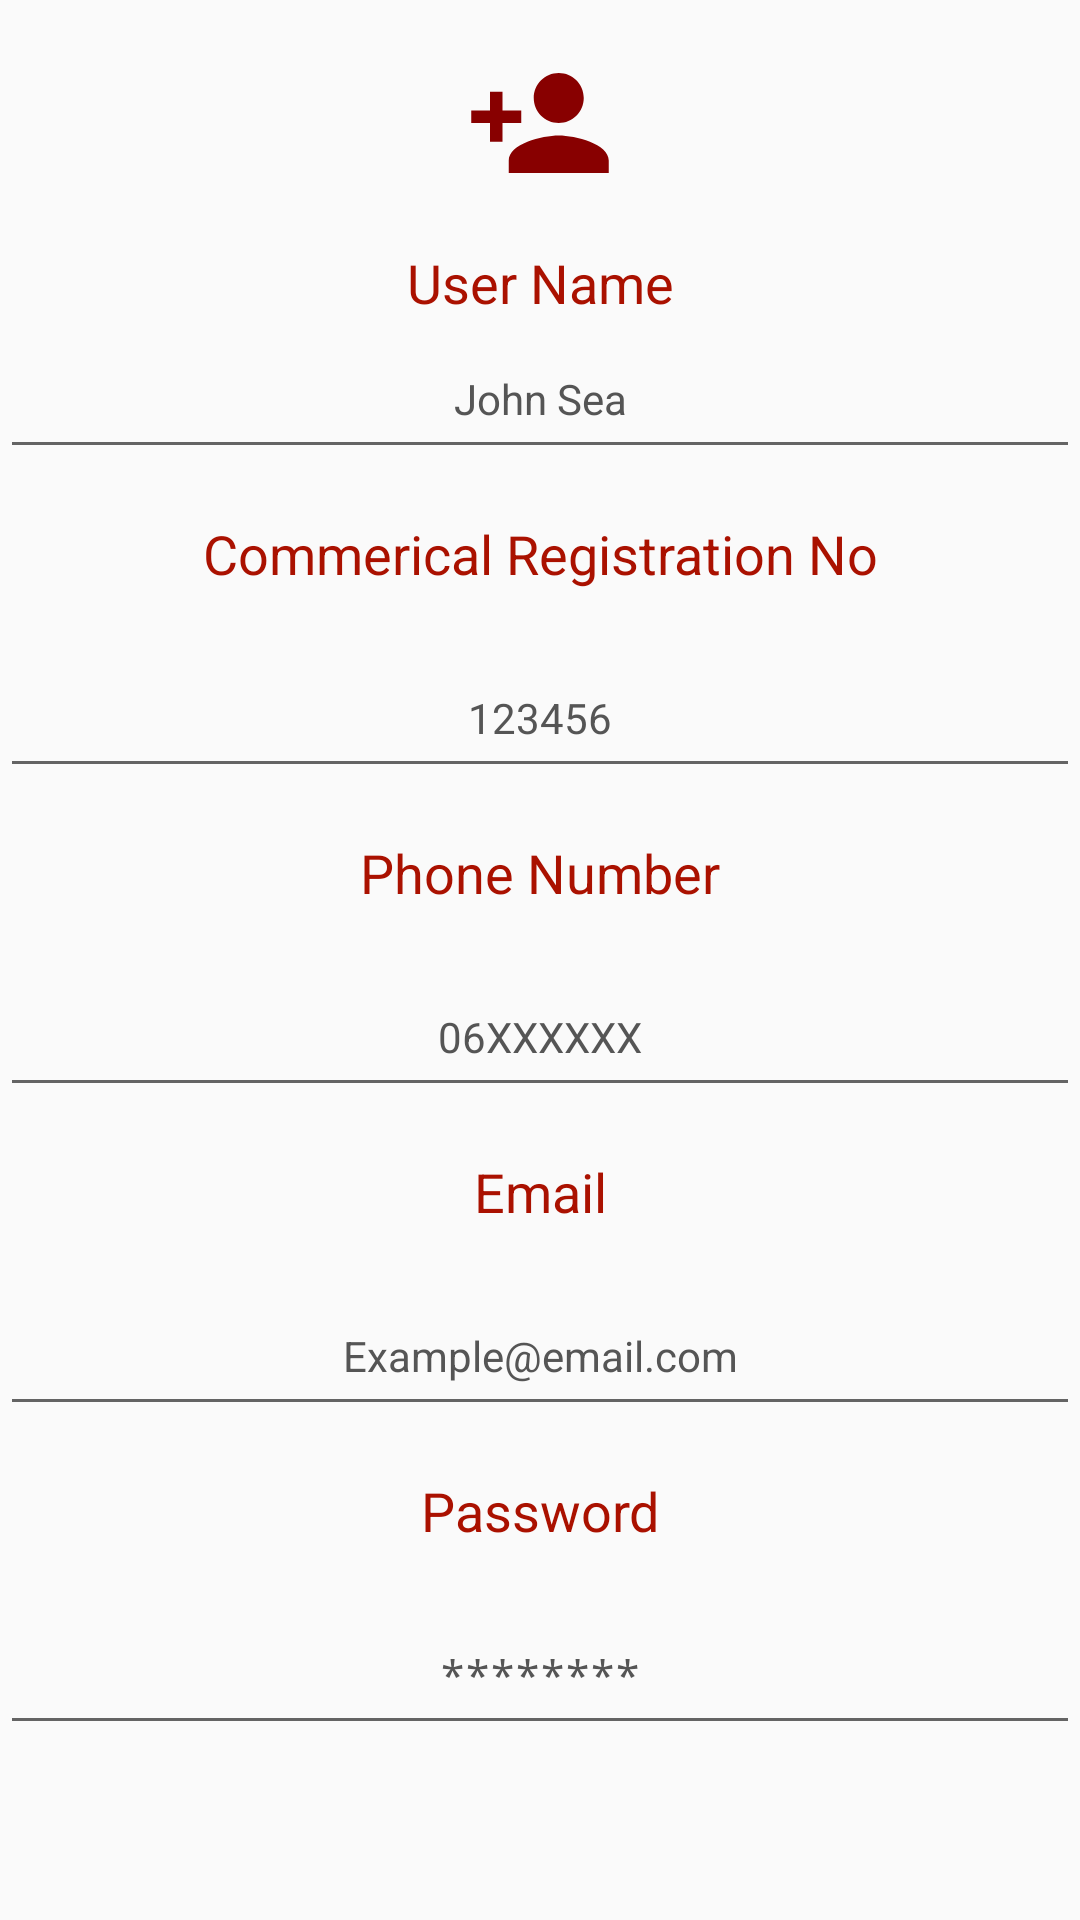

Point at icon controls on the screen. Image size 1080×1920, points as (x=x, y=y).
person add: (x=540, y=123)
